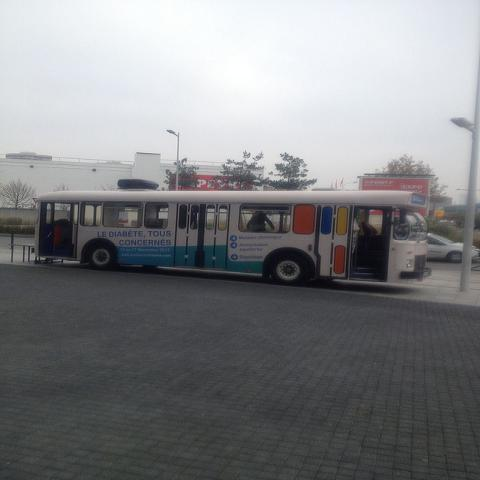bus: (38, 190, 432, 286)
car: (427, 233, 479, 264)
